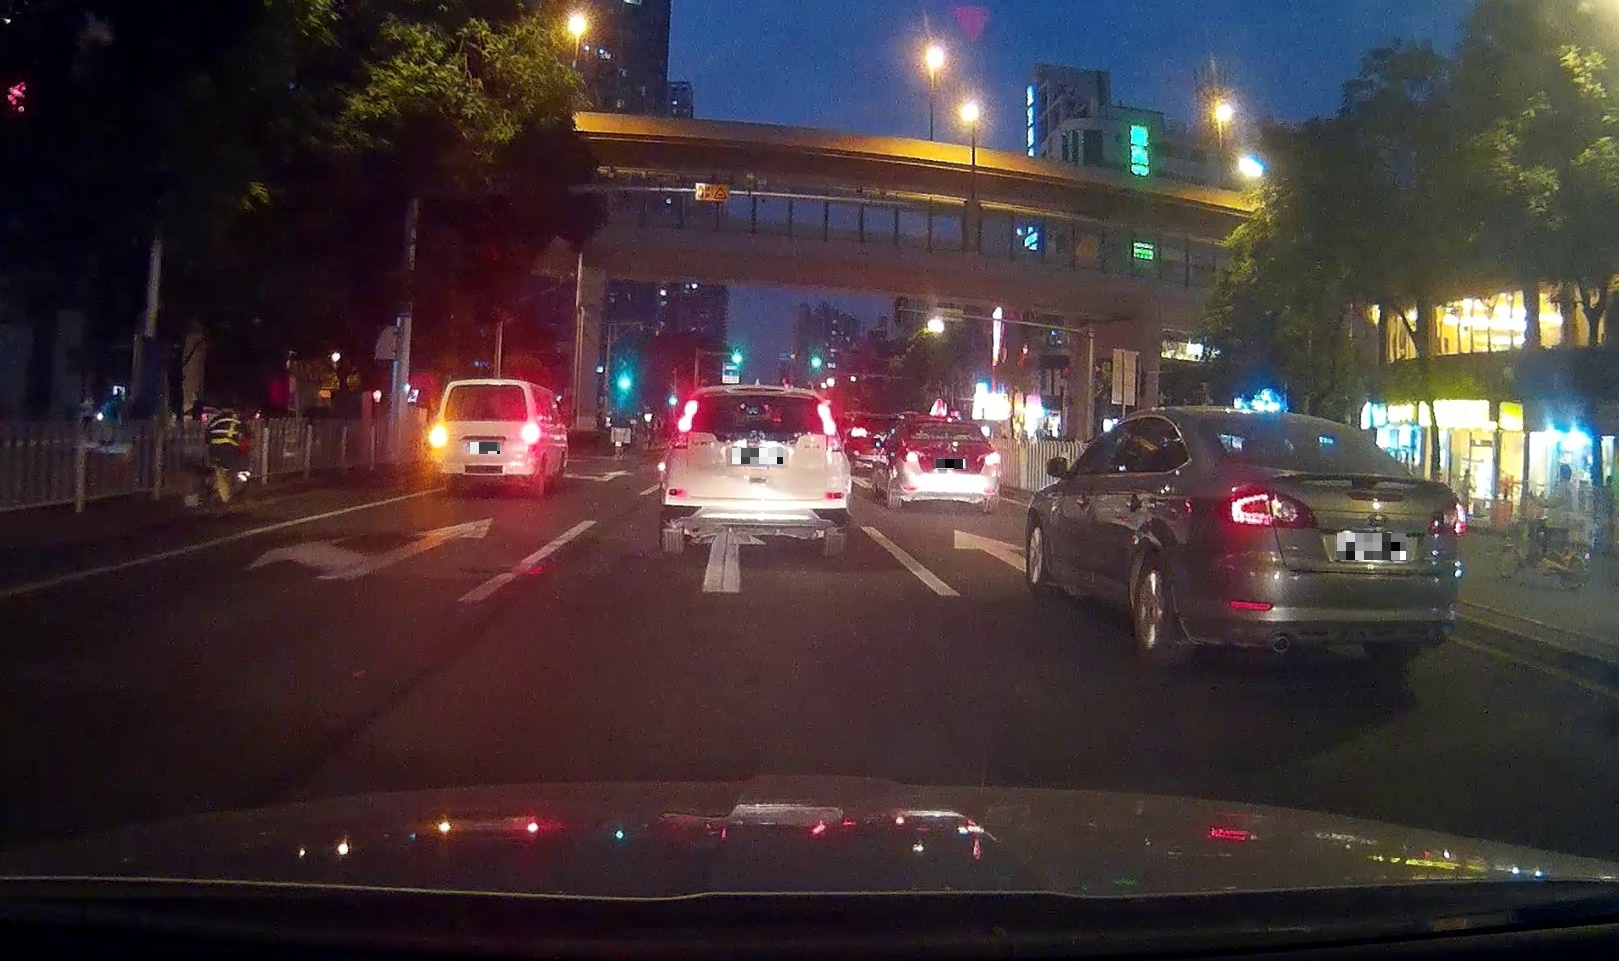L_light: (1217, 483, 1318, 529), (669, 398, 699, 448), (427, 426, 449, 447), (899, 444, 922, 462)
R_light: (1427, 500, 1466, 537), (815, 402, 839, 436), (519, 422, 541, 443), (982, 451, 1001, 466)
T_light: (741, 387, 773, 394), (1288, 416, 1316, 423), (932, 416, 954, 422), (479, 386, 497, 390)
night-no: (1217, 406, 1466, 648), (661, 384, 850, 551), (428, 379, 541, 491), (899, 414, 1001, 513)
plate_1: (470, 442, 500, 454)
plate_2: (732, 448, 783, 464)
plate_3: (936, 459, 965, 469)
plate_4: (1338, 533, 1406, 559)
